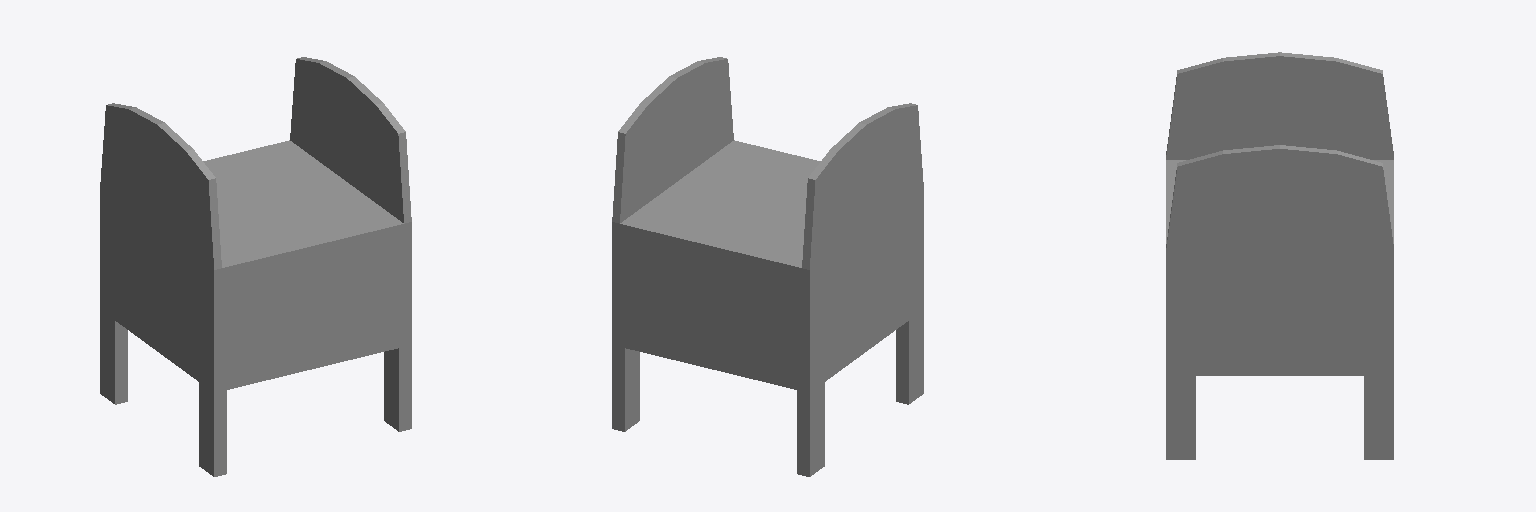
The model's file is bed.obj.
3 renders of one model, left to right at view 1: azimuth 30°, elevation 25°; view 2: azimuth 150°, elevation 25°; view 3: azimuth 270°, elevation 25°, orthographic.
Parts seen in each view (by area): view 1: Cube; view 2: Cube; view 3: Cube.
Part boxes in pixels (x1,y1,x2,y2): Cube: (100, 57, 411, 476); Cube: (612, 57, 923, 476); Cube: (1166, 52, 1393, 459).
Bounding box in the file's own units: 0.9974 × 1.5 × 0.9982.